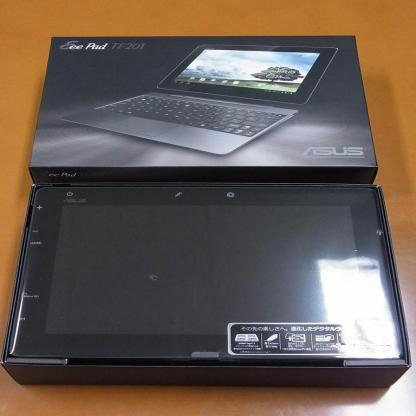board: (3, 165, 401, 385), (61, 43, 340, 155)
